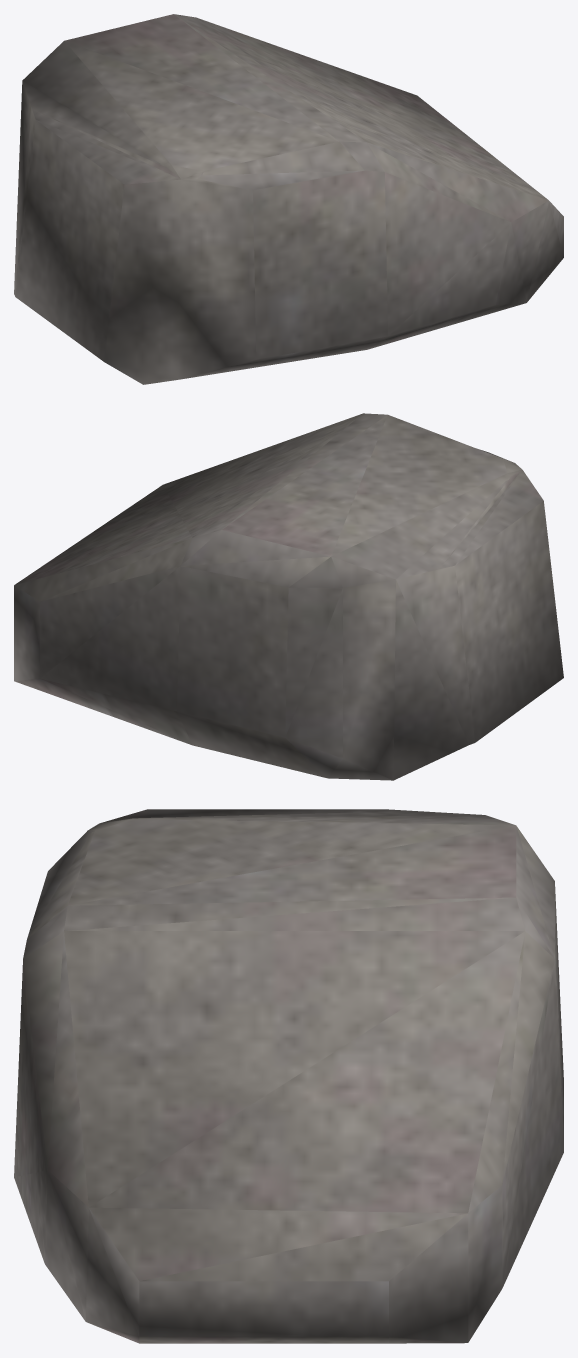
Rendered from Boulder_Small_Gray.obj.
The picture shows the model from 3 angles, top to bottom: view 1: azimuth 30°, elevation 25°; view 2: azimuth 150°, elevation 25°; view 3: azimuth 270°, elevation 25°; orthographic projection. The views are drawn at different scales.
Parts seen in each view (by area): view 1: Mesh1 Model; view 2: Mesh1 Model; view 3: Mesh1 Model.
Boxes of the visible parts, x1,y1,x2,y2 form: Mesh1 Model: (14, 14, 563, 384); Mesh1 Model: (14, 413, 563, 780); Mesh1 Model: (14, 809, 563, 1343).
Bounding box in the file's own units: 16.8 × 7.72 × 12.97.
Materials: 1 (1 with a texture image).
